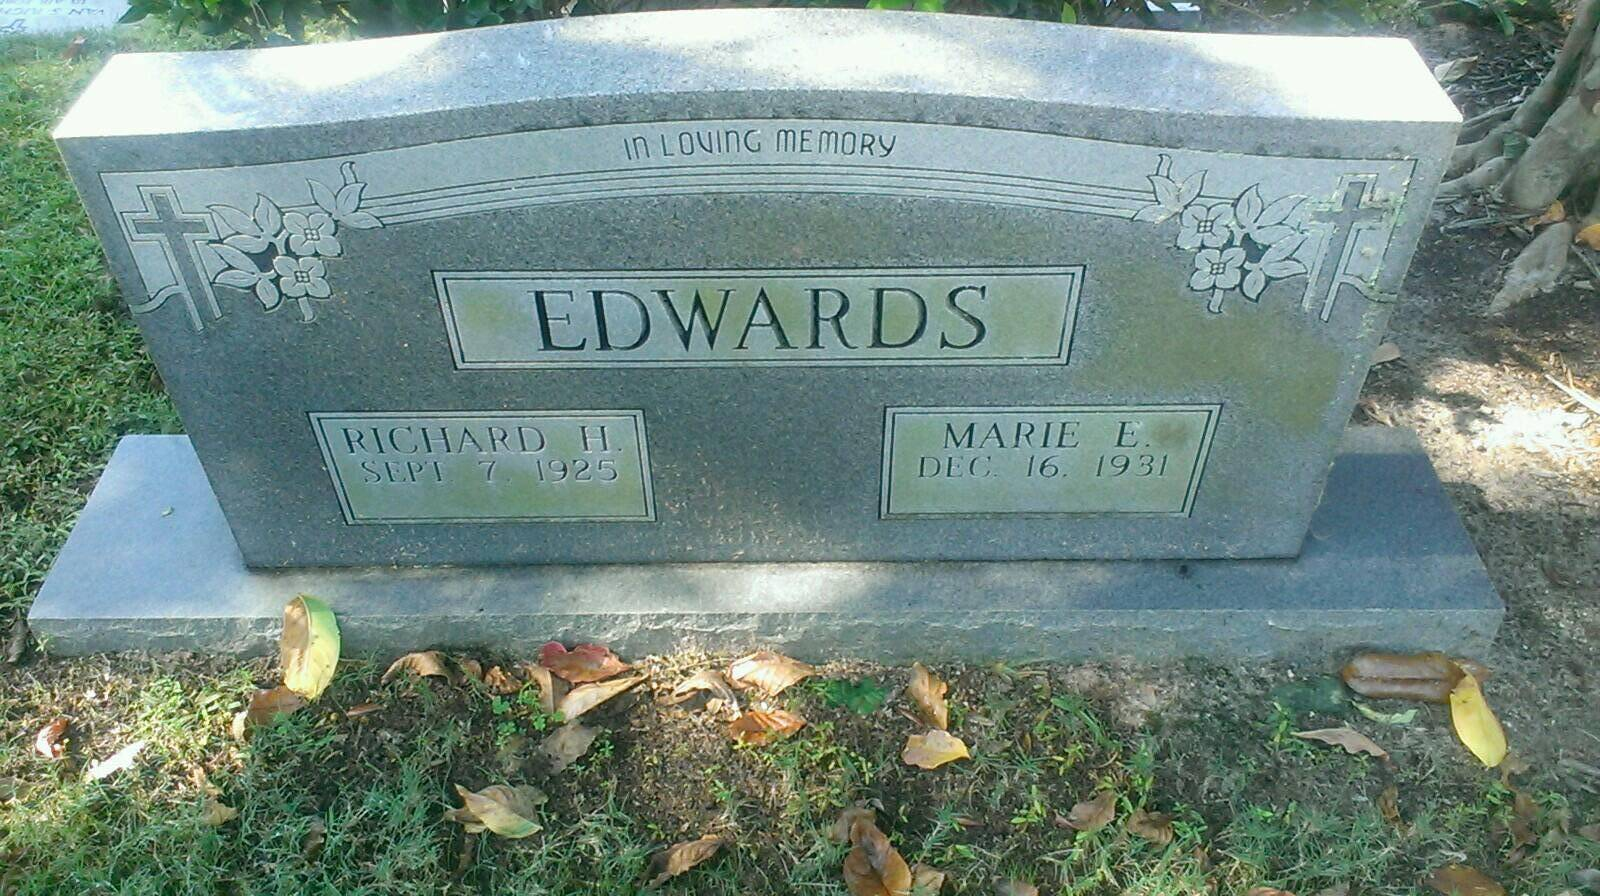upright: (29, 8, 1503, 706)
